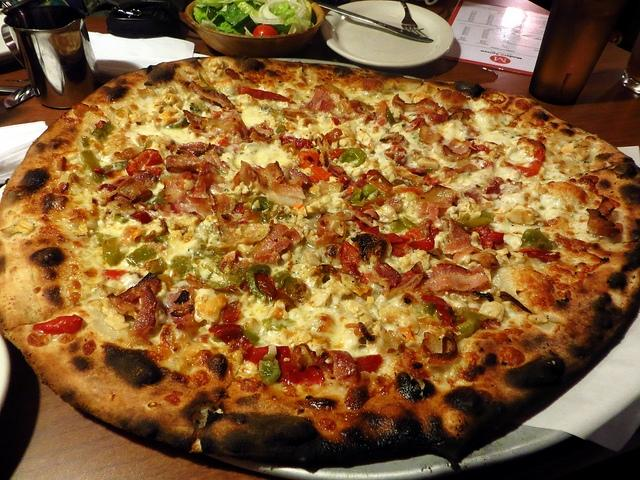tomato: (208, 324, 325, 384), (504, 136, 546, 178), (256, 273, 294, 304), (32, 314, 82, 335), (238, 86, 296, 104), (126, 149, 163, 176), (466, 226, 504, 250), (84, 268, 144, 282), (398, 228, 434, 250), (514, 249, 560, 262), (384, 145, 408, 166), (298, 150, 320, 169), (252, 24, 278, 36), (312, 164, 329, 181), (331, 148, 345, 160)
